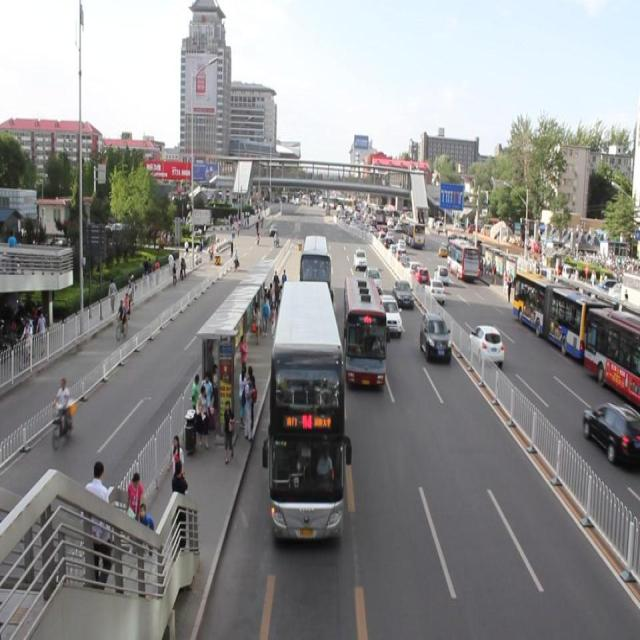car: (419, 308, 450, 365), (374, 289, 402, 336), (390, 279, 418, 312), (361, 262, 386, 294), (351, 246, 369, 270)
van: (260, 278, 352, 550), (340, 270, 390, 398), (296, 232, 335, 304)
